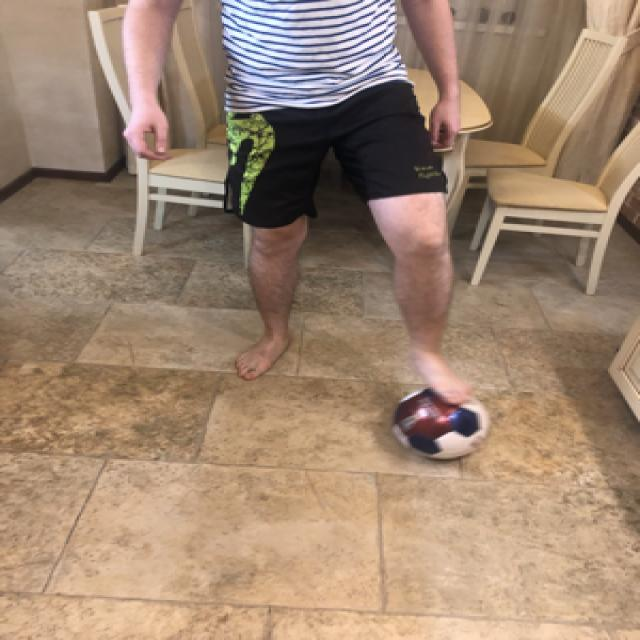soccer_ball: (386, 381, 489, 459)
